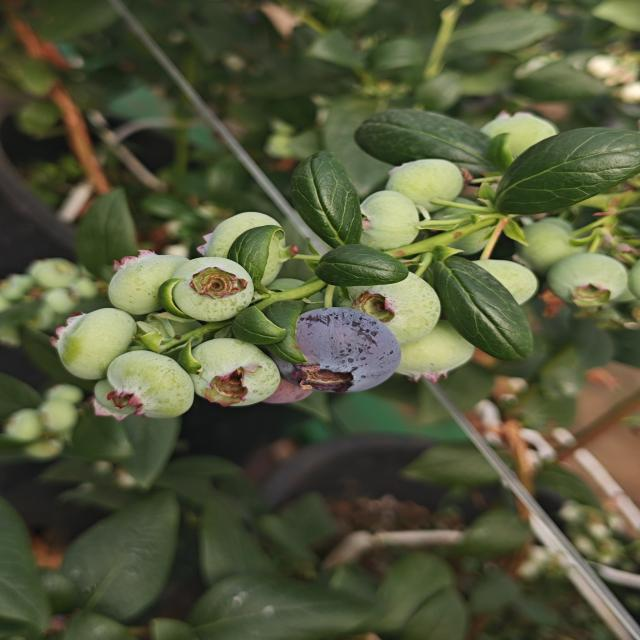ripe: (270, 299, 406, 402)
